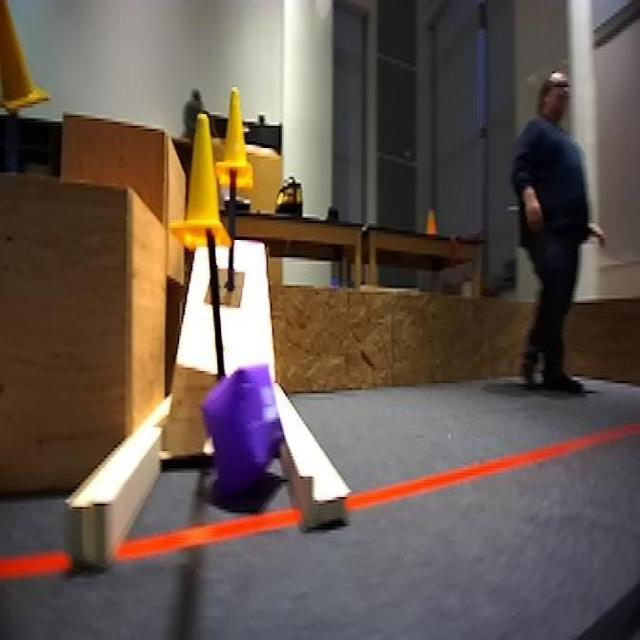frc_cone: (161, 105, 229, 254), (0, 0, 51, 117), (214, 83, 258, 184)
frc_cube: (200, 361, 287, 504)
